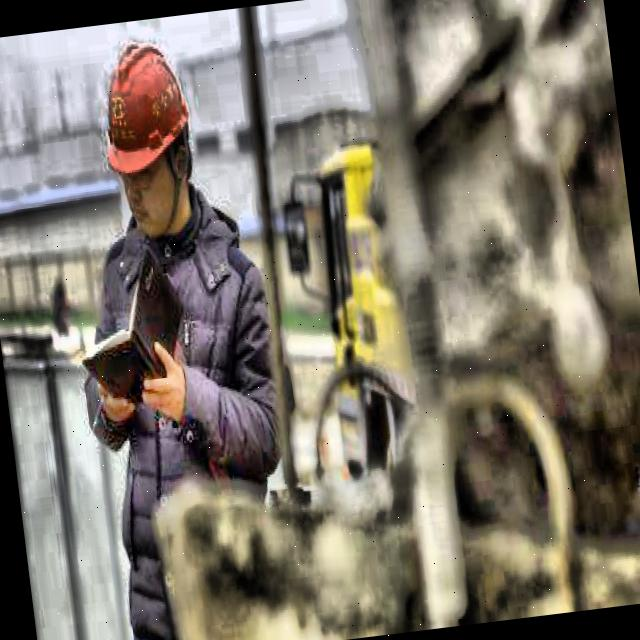helmet: (85, 18, 212, 254)
